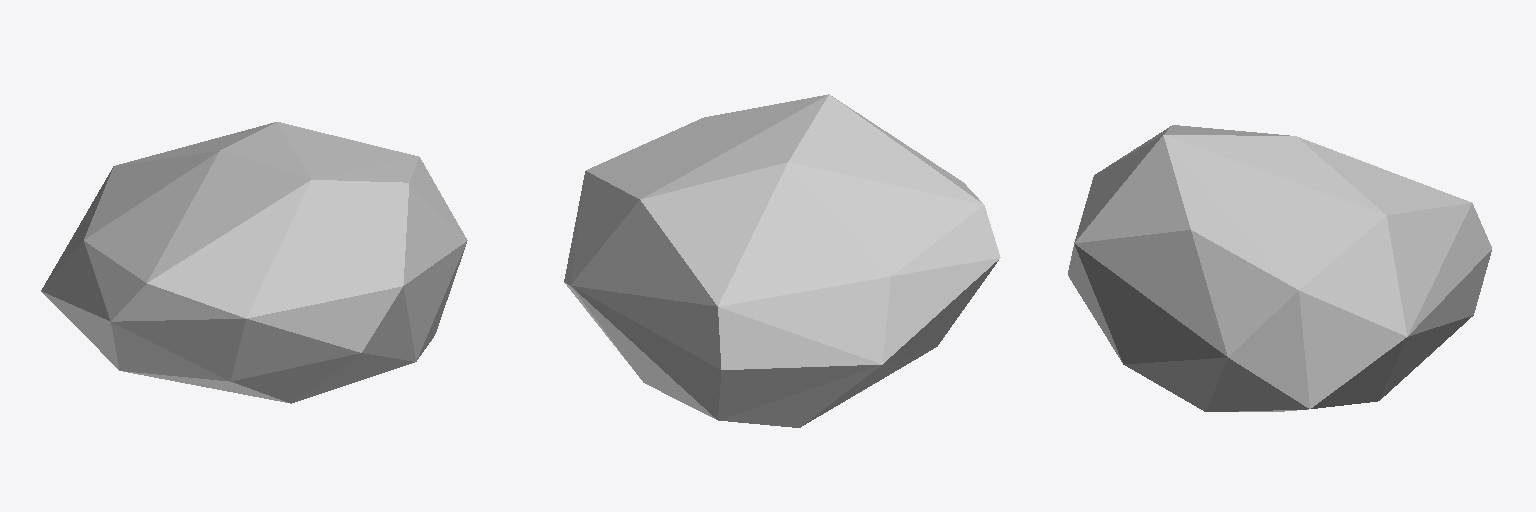
Rendered from Stone3.obj.
3 views of the same model, side by side, from view 1: azimuth 30°, elevation 25°; view 2: azimuth 150°, elevation 25°; view 3: azimuth 270°, elevation 25° (orthographic).
Parts seen in each view (by area): view 1: Icosphere; view 2: Icosphere; view 3: Icosphere.
Boxes of the visible parts, x1,y1,x2,y2 form: Icosphere: [41, 122, 467, 403]; Icosphere: [564, 94, 1000, 427]; Icosphere: [1068, 125, 1491, 411].
Size of the model in its own units: 2.54 by 1.54 by 2.47.